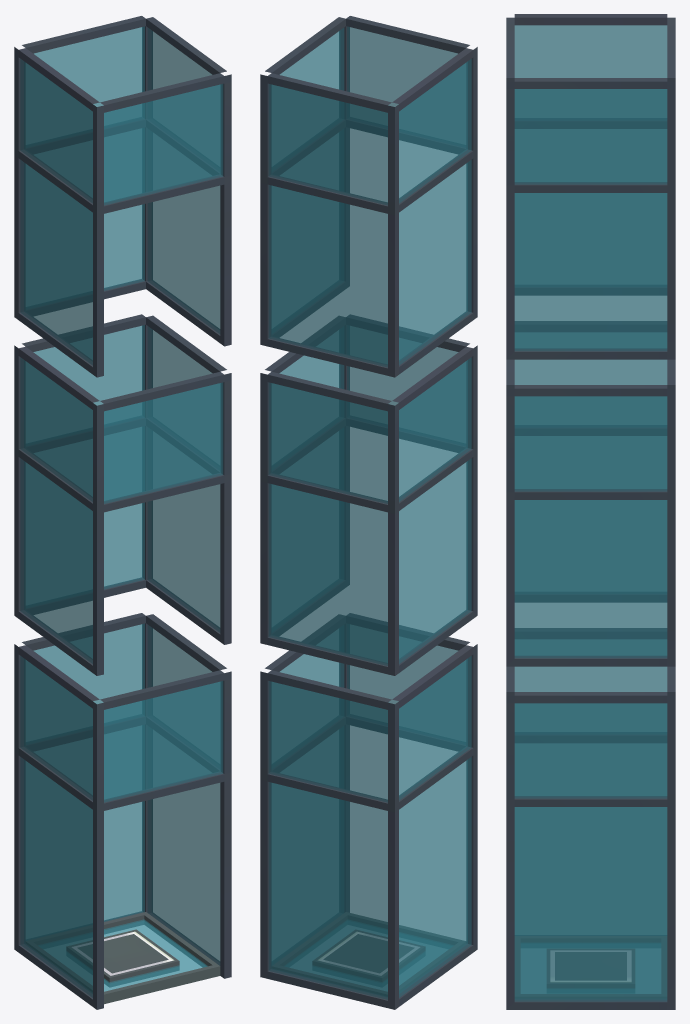
The model's file is TeachingCommunityInteriorTeachingRoomLobby.glb.
3 renders of one model, left to right at view 1: azimuth 30°, elevation 25°; view 2: azimuth 150°, elevation 25°; view 3: azimuth 270°, elevation 25°, orthographic. The views are drawn at different scales.
Visible parts, largest first — view 1: TCV_LiftGlass, TCV_LiftFrames, TCV_Lift; view 2: TCV_LiftGlass, TCV_LiftFrames, TCV_Lift; view 3: TCV_LiftGlass, TCV_LiftFrames, TCV_Lift.
Part boxes in pixels (box(x1,y1,x2,y2)): TCV_LiftGlass: box(20, 26, 223, 997); TCV_LiftFrames: box(14, 16, 231, 1009); TCV_Lift: box(26, 912, 220, 1004); TCV_LiftGlass: box(268, 26, 471, 999); TCV_LiftFrames: box(260, 16, 477, 1009); TCV_Lift: box(272, 912, 465, 996); TCV_LiftGlass: box(514, 25, 667, 1001); TCV_LiftFrames: box(506, 14, 675, 1009); TCV_Lift: box(515, 936, 666, 998).
Size of what is drawn, in the model's own units: 2.87 by 18.43 by 3.05.
3 materials, 2 textured.
